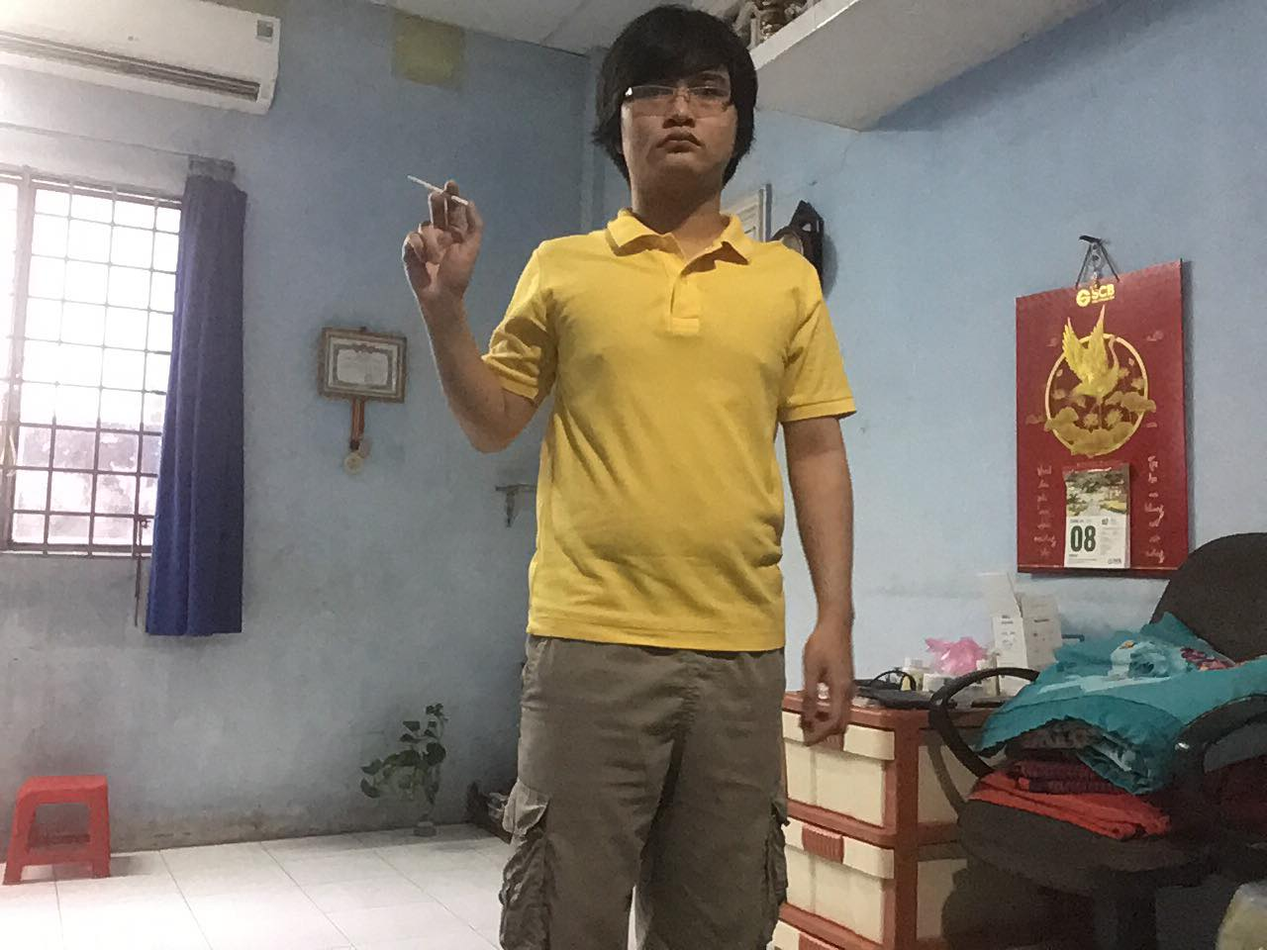cigarette: (404, 170, 444, 193)
person: (404, 52, 875, 940)
